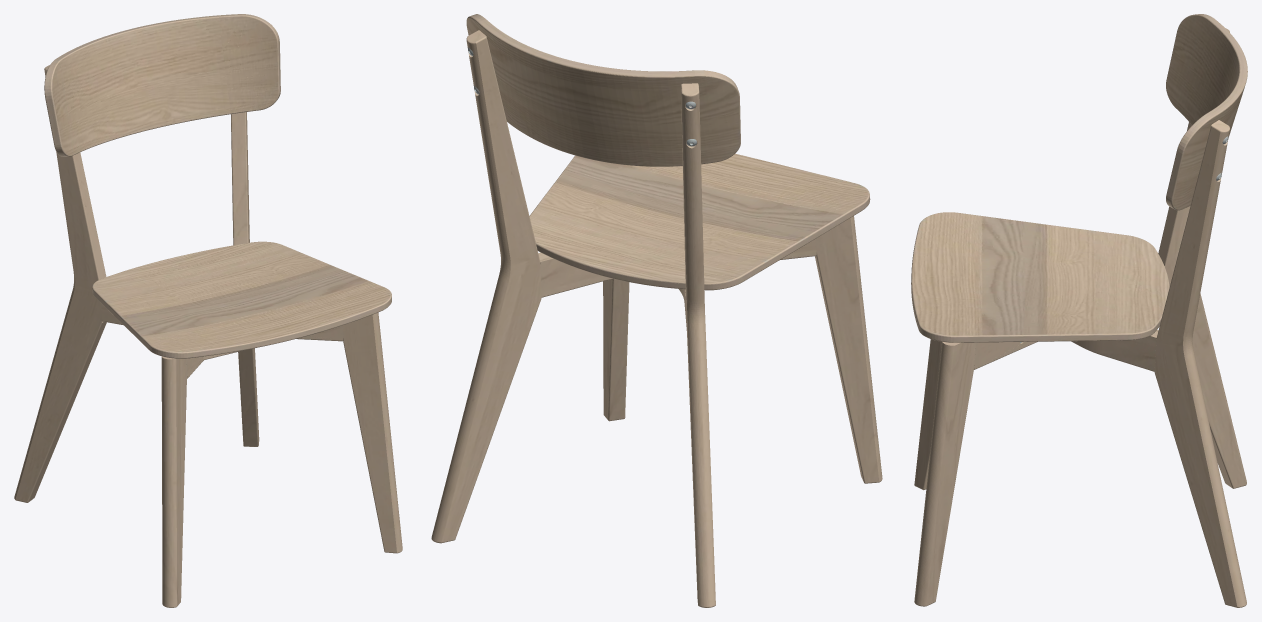
3 renders of one model, left to right at view 1: azimuth 30°, elevation 25°; view 2: azimuth 150°, elevation 25°; view 3: azimuth 270°, elevation 25°, orthographic. The views are drawn at different scales.
Parts seen in each view (by area): view 1: Mesh_0; view 2: Mesh_0; view 3: Mesh_0.
Part boxes in pixels (bbox=[...]): Mesh_0: bbox=[14, 14, 402, 607]; Mesh_0: bbox=[431, 14, 882, 607]; Mesh_0: bbox=[911, 14, 1247, 607].
Bounding box in the file's own units: 0.46 × 0.8 × 0.51.
1 material, 1 textured.
